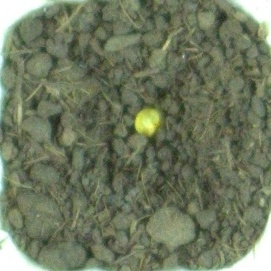pepper seed: (50, 36, 214, 174)
